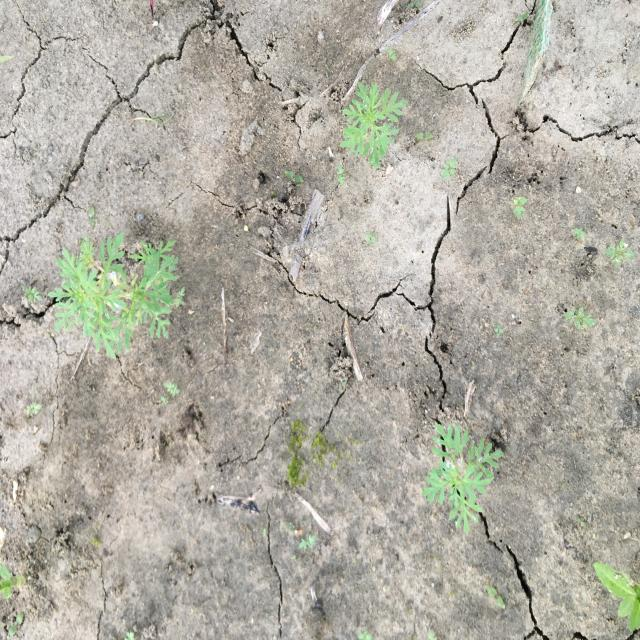Ragweed: (45, 230, 186, 363), (419, 419, 504, 538), (338, 80, 410, 171)
